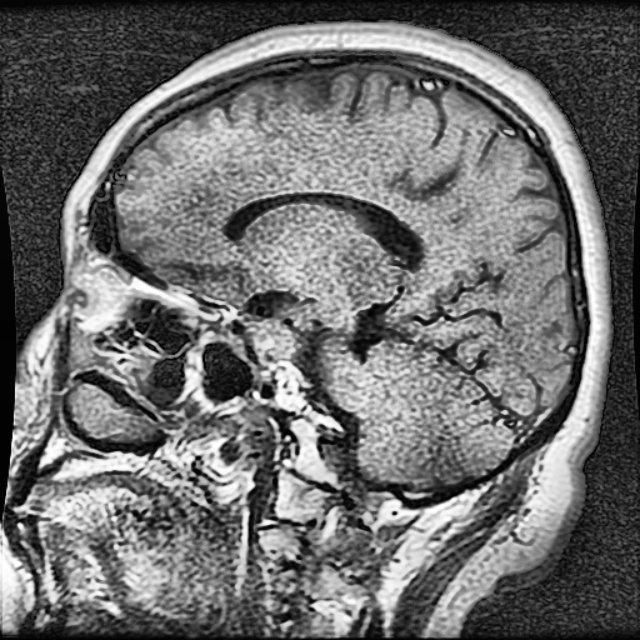Pituitary: (240, 315, 303, 359)
